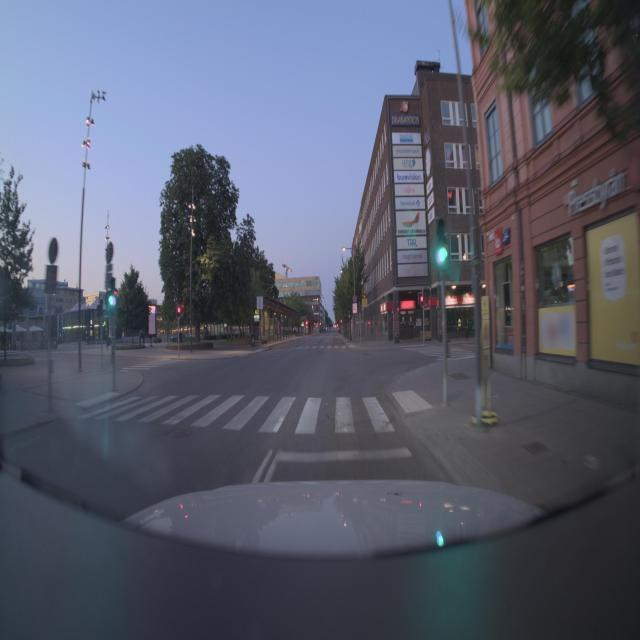green_light: (432, 214, 456, 274), (100, 268, 122, 320)
